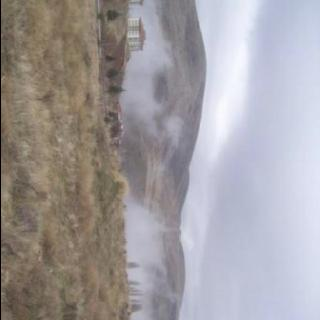Stratus: (183, 0, 320, 320)
